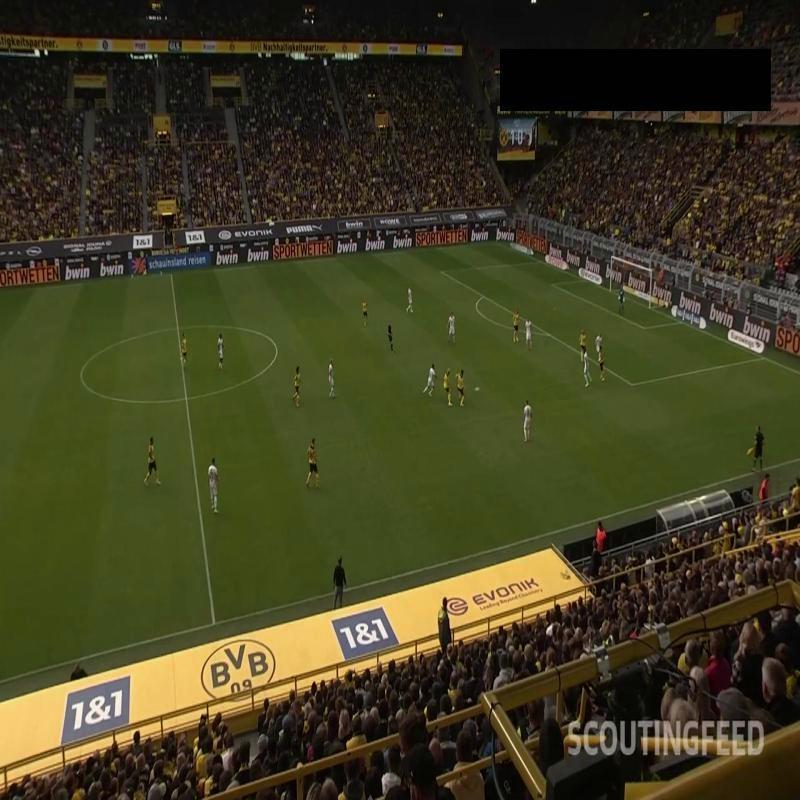1: (489, 237, 503, 251)
10: (476, 289, 490, 303)
11: (542, 328, 556, 342)
12: (625, 378, 639, 392)
13: (165, 268, 179, 282)
14: (171, 322, 185, 336)
15: (178, 390, 192, 406)
16: (206, 614, 224, 634)
2: (534, 255, 548, 268)
3: (578, 274, 593, 288)
4: (674, 316, 688, 330)
5: (756, 350, 770, 364)
7: (545, 278, 559, 292)
8: (638, 322, 652, 336)
9: (435, 264, 450, 278)
c: (267, 338, 285, 356), (76, 370, 90, 384)
